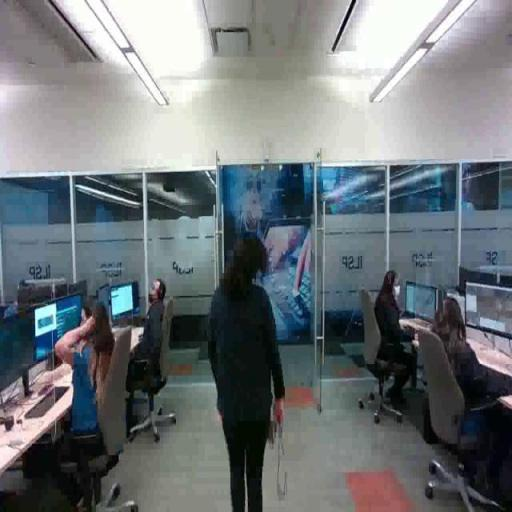person: (210, 230, 286, 512)
